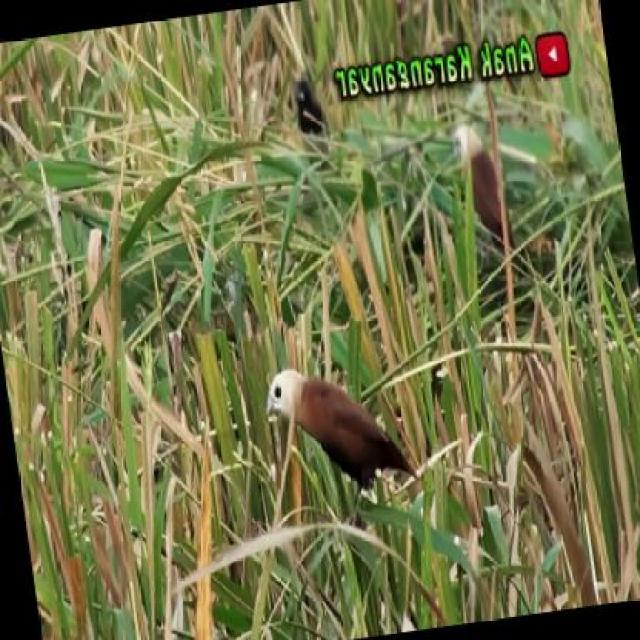Bird: (258, 363, 413, 510), (446, 119, 518, 250), (284, 72, 329, 147)
